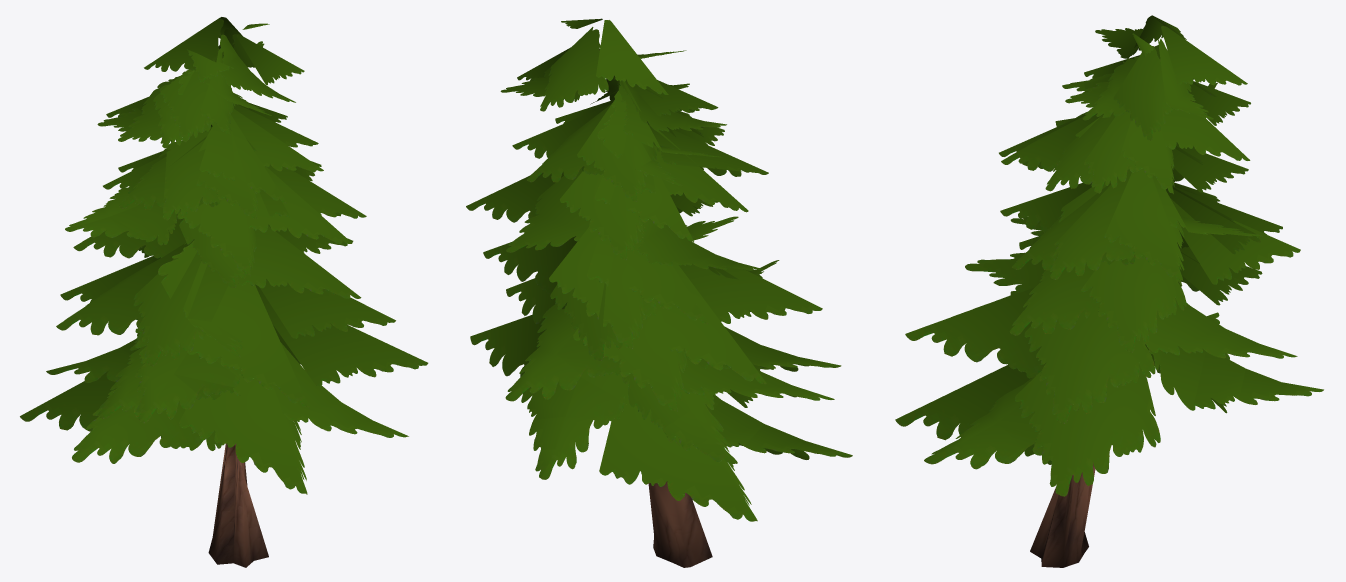
The model's file is tree-life-5-mature.glb.
The picture shows the model from 3 angles, left to right: view 1: azimuth 30°, elevation 25°; view 2: azimuth 150°, elevation 25°; view 3: azimuth 270°, elevation 25°; orthographic projection. The views are drawn at different scales.
Parts seen in each view (by area): view 1: Pine_5; view 2: Pine_5; view 3: Pine_5.
Part boxes in pixels (x1,y1,x2,y2): Pine_5: [20, 17, 428, 567]; Pine_5: [466, 18, 852, 567]; Pine_5: [895, 15, 1323, 567].
Size of the model in its own units: 4.97 by 6.67 by 4.81.
Materials: 2 (2 with a texture image).
